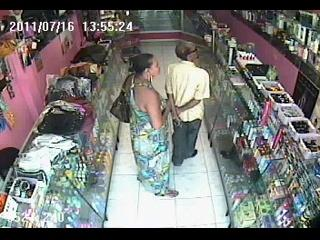Normal: (124, 52, 180, 200), (166, 40, 210, 168), (110, 73, 134, 123)
